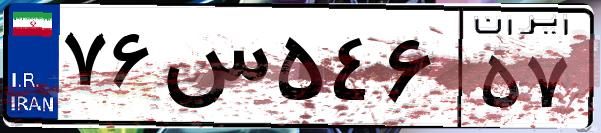4: (330, 28, 385, 110)
5: (270, 28, 330, 110), (475, 38, 525, 113)
6: (385, 28, 445, 110), (110, 28, 158, 98)
7: (57, 26, 110, 100), (525, 38, 570, 115)
س: (158, 20, 270, 120)
